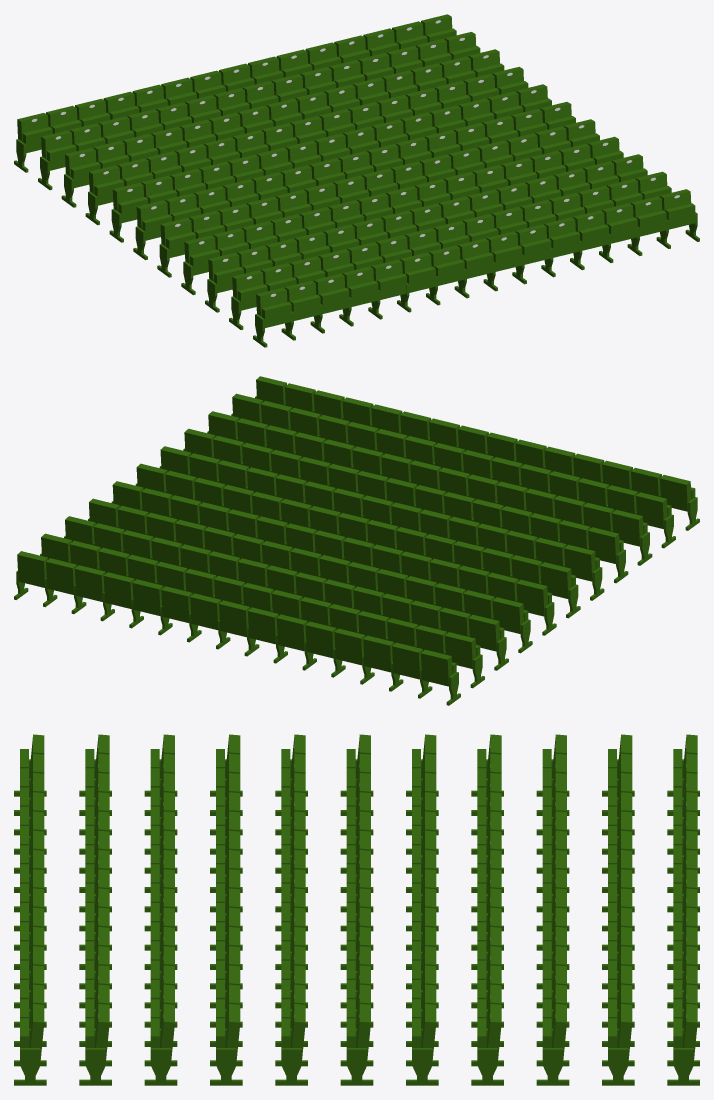
The model's file is Seats_Sections1A1B1B2A2B2C.FBX.
The picture shows the model from 3 angles, top to bottom: view 1: azimuth 30°, elevation 25°; view 2: azimuth 150°, elevation 25°; view 3: azimuth 270°, elevation 25°; orthographic projection. The views are drawn at different scales.
Visible parts, largest first — view 1: Box011; view 2: Box011; view 3: Box011.
Part boxes in pixels (box(x1,y1,x2,y2)): Box011: box(14, 14, 699, 347); Box011: box(14, 376, 699, 705); Box011: box(14, 734, 699, 1085).
Bounding box in the file's own units: 6.19 × 0.6188 × 6.18.
